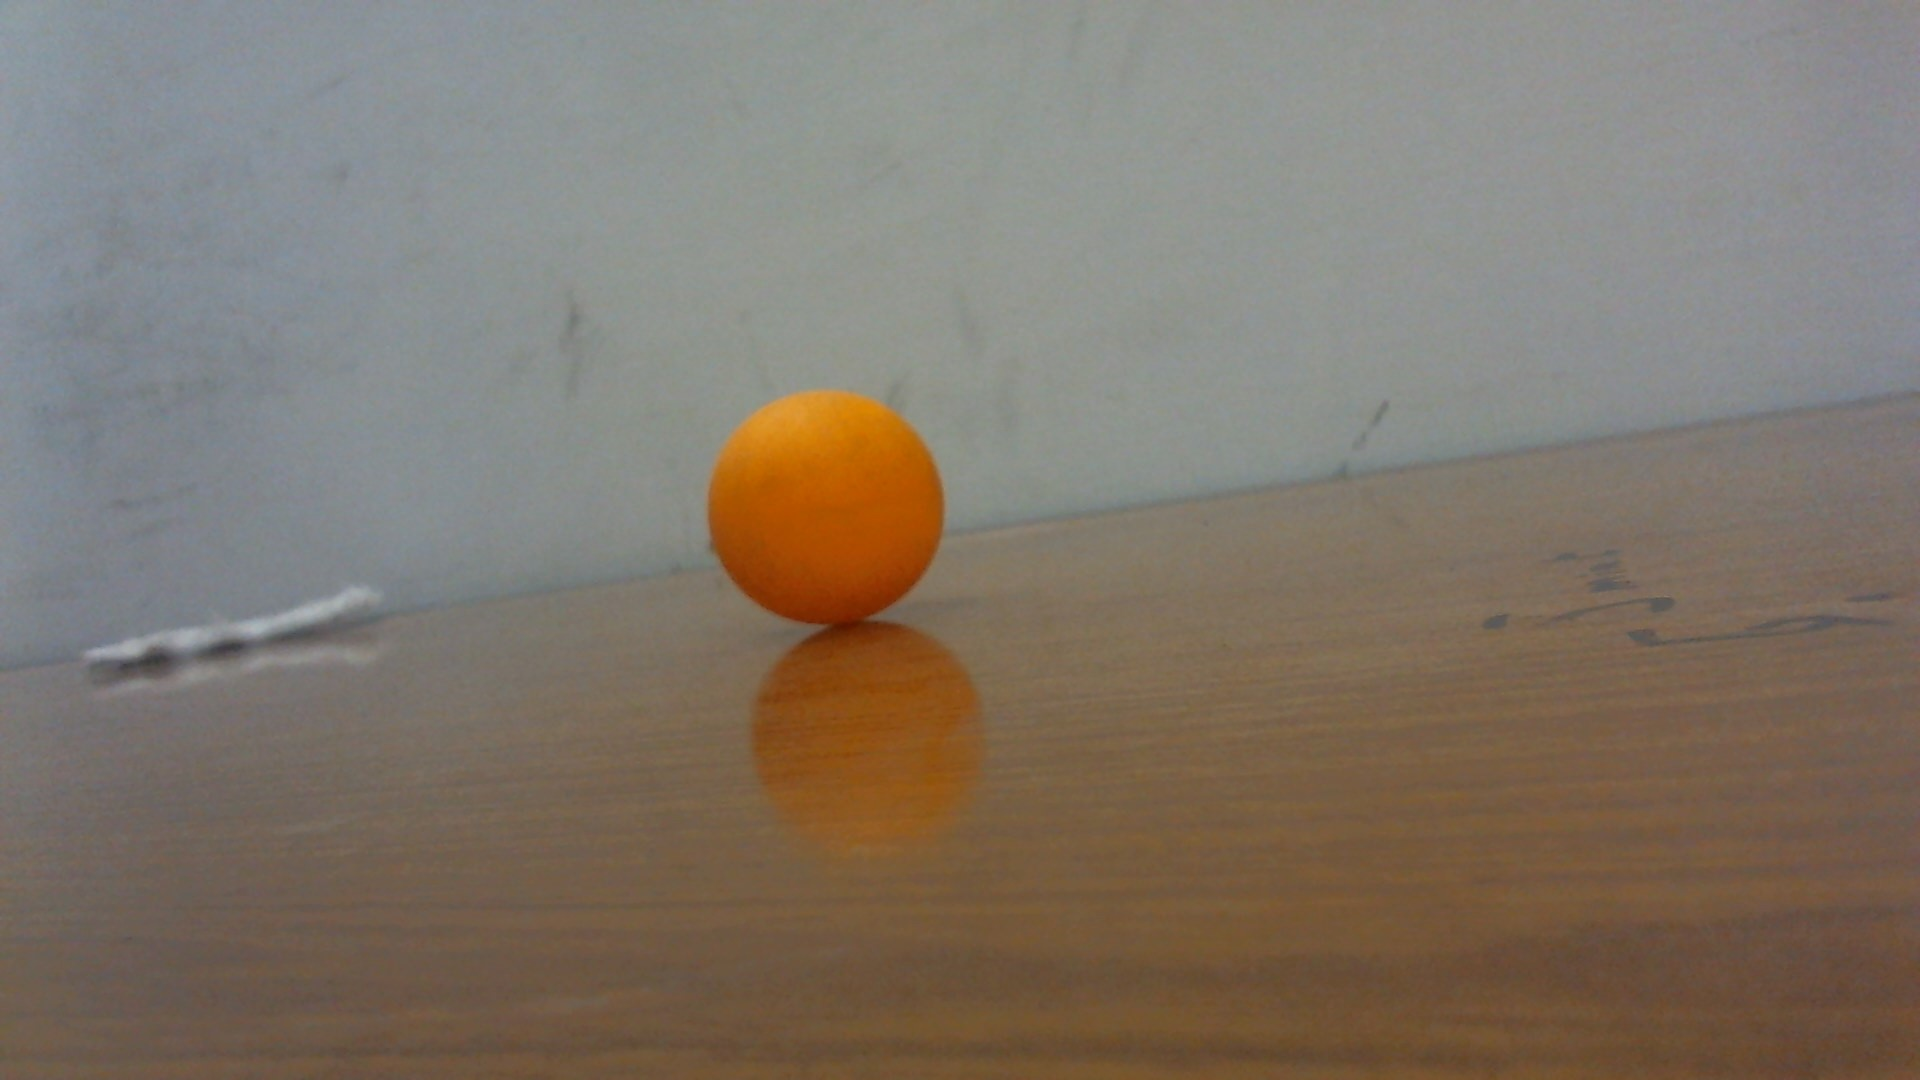ball: (704, 386, 947, 625)
